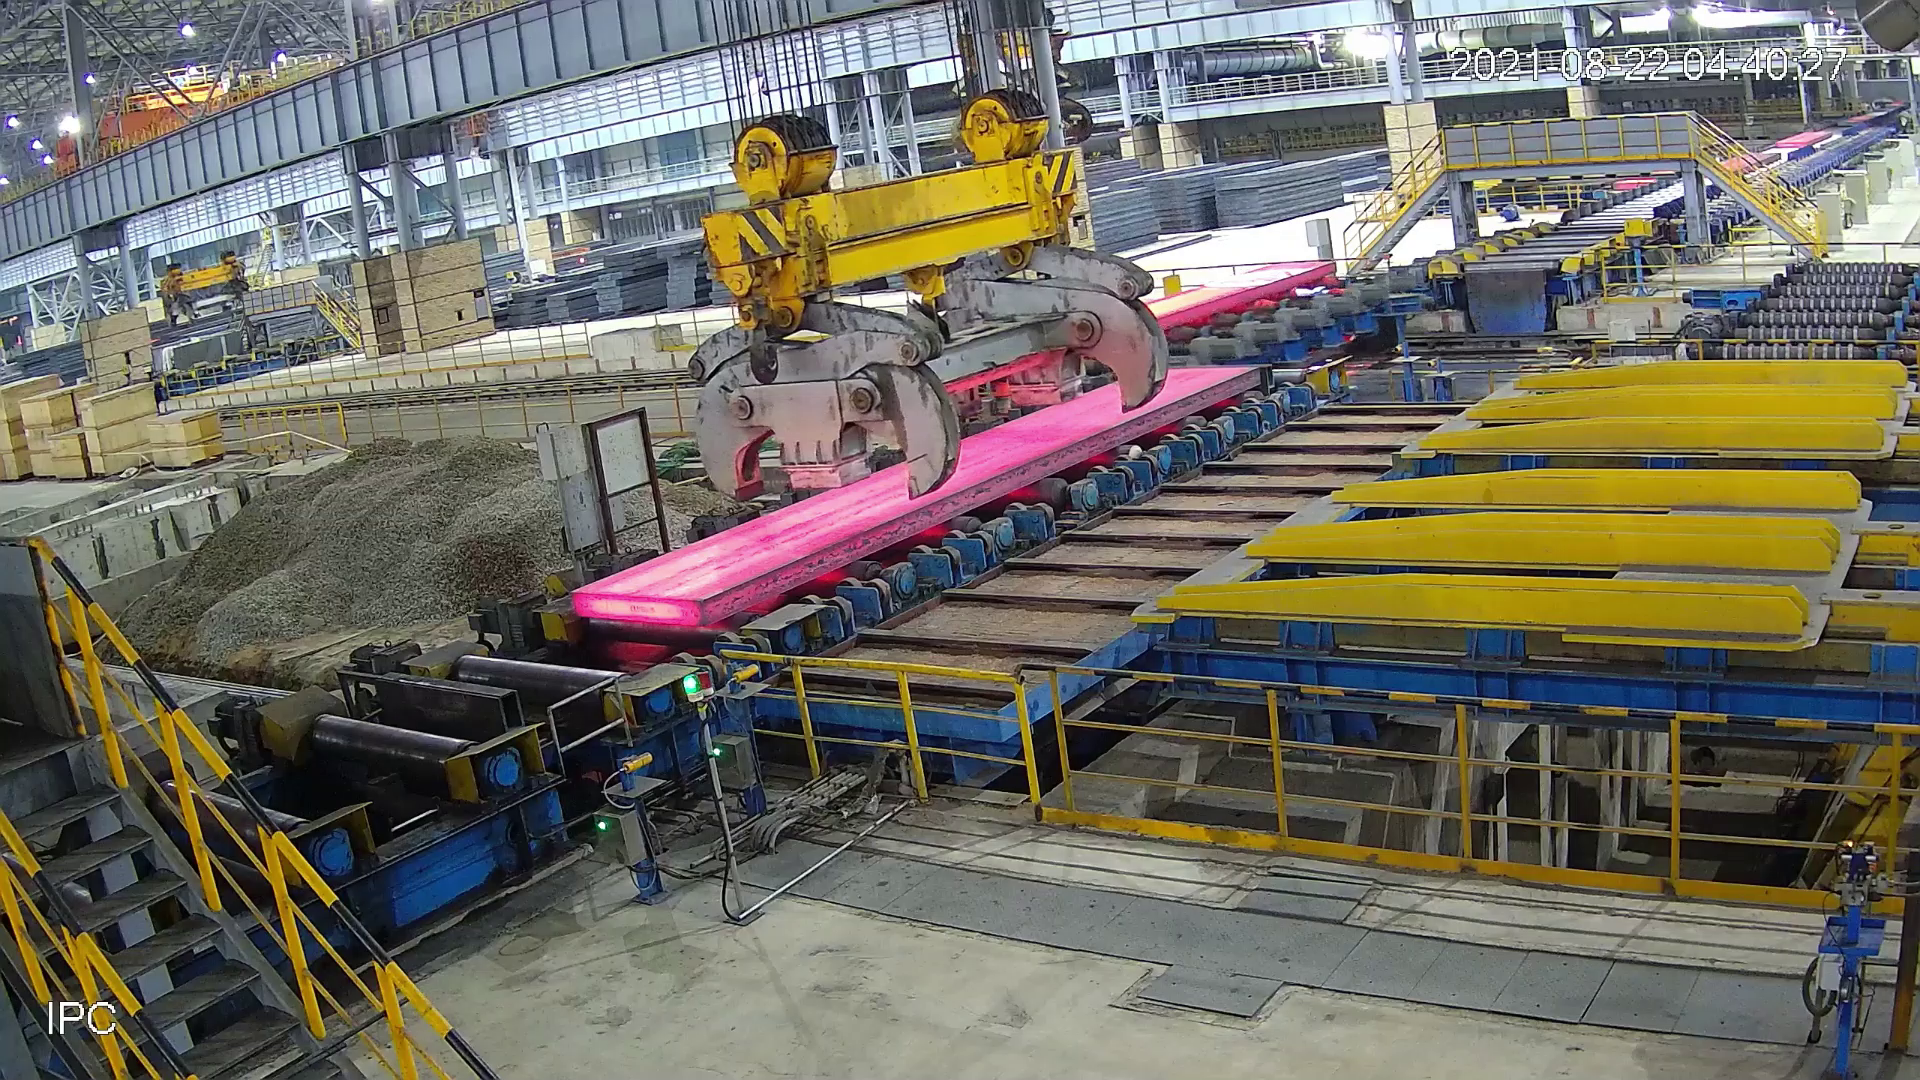crane: (675, 83, 1182, 512)
slab: (563, 367, 1263, 632)
